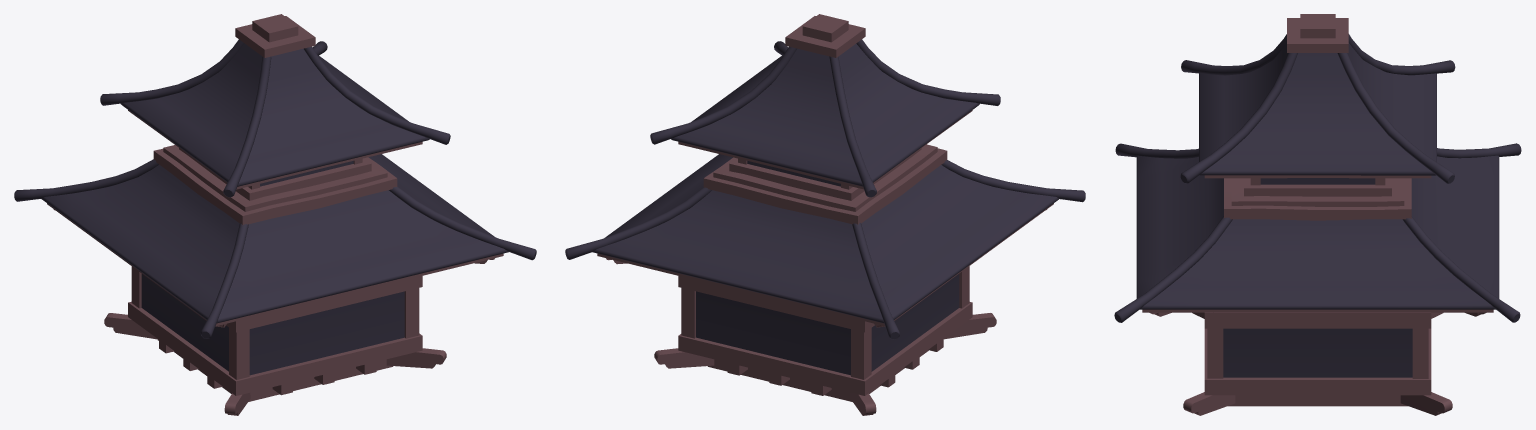
Rendered from tower_03.fbx.
The picture shows the model from 3 angles, left to right: view 1: azimuth 30°, elevation 25°; view 2: azimuth 150°, elevation 25°; view 3: azimuth 270°, elevation 25°; orthographic projection. The views are drawn at different scales.
Parts seen in each view (by area): view 1: tower_03; view 2: tower_03; view 3: tower_03.
Part boxes in pixels (x1,y1,x2,y2): tower_03: (14, 14, 536, 415); tower_03: (565, 14, 1085, 415); tower_03: (1114, 14, 1521, 415).
Bounding box in the file's own units: 717 × 675 × 718.
